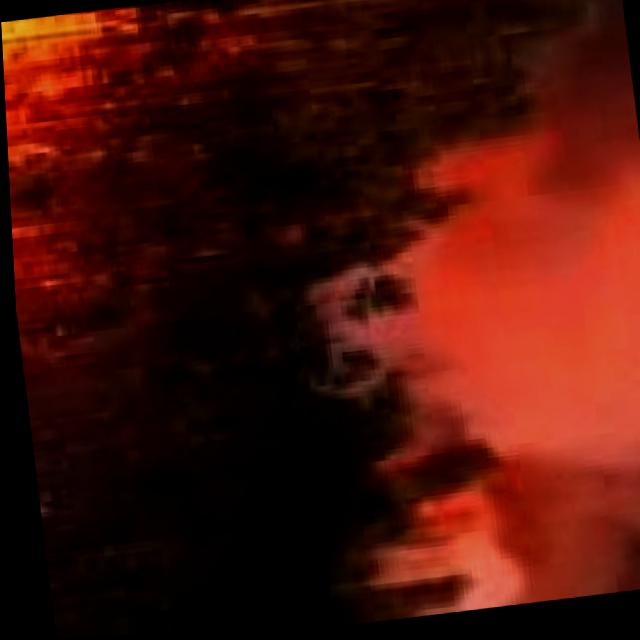fire: (1, 10, 132, 358)
